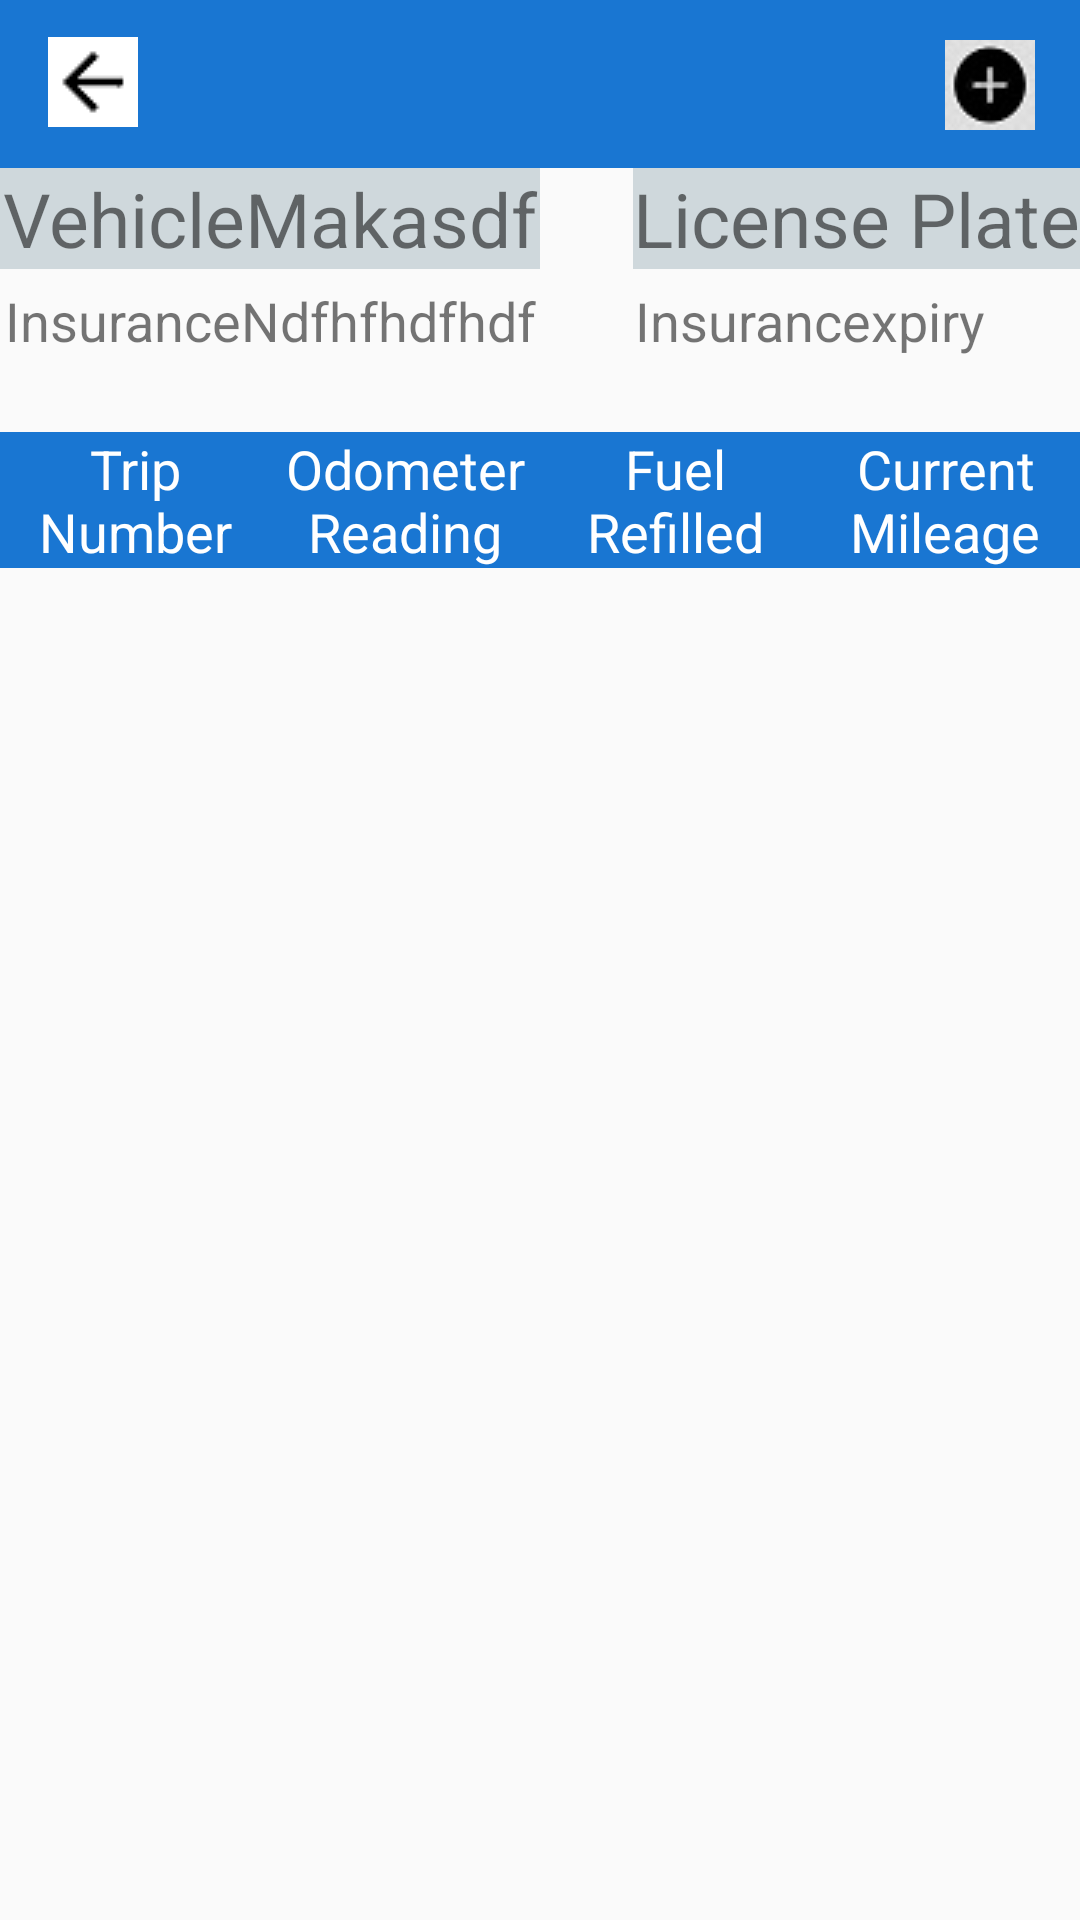

Icon bounding boxes for this 1080×1920 phone screenshot, format [x1=x1, y1=y1, x2=x2, y2=y2]:
add: [x1=945, y1=40, x2=1035, y2=130]
back: [x1=48, y1=37, x2=138, y2=127]
